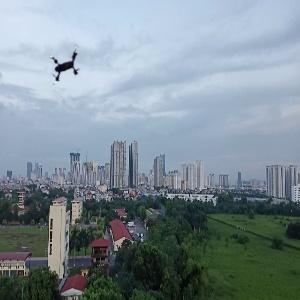drone: (37, 38, 90, 91)
